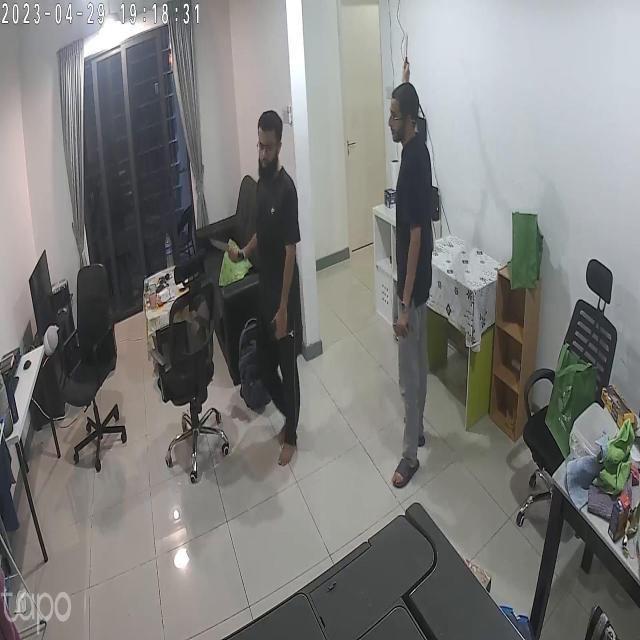Knife: (198, 228, 252, 264), (398, 28, 421, 74)
